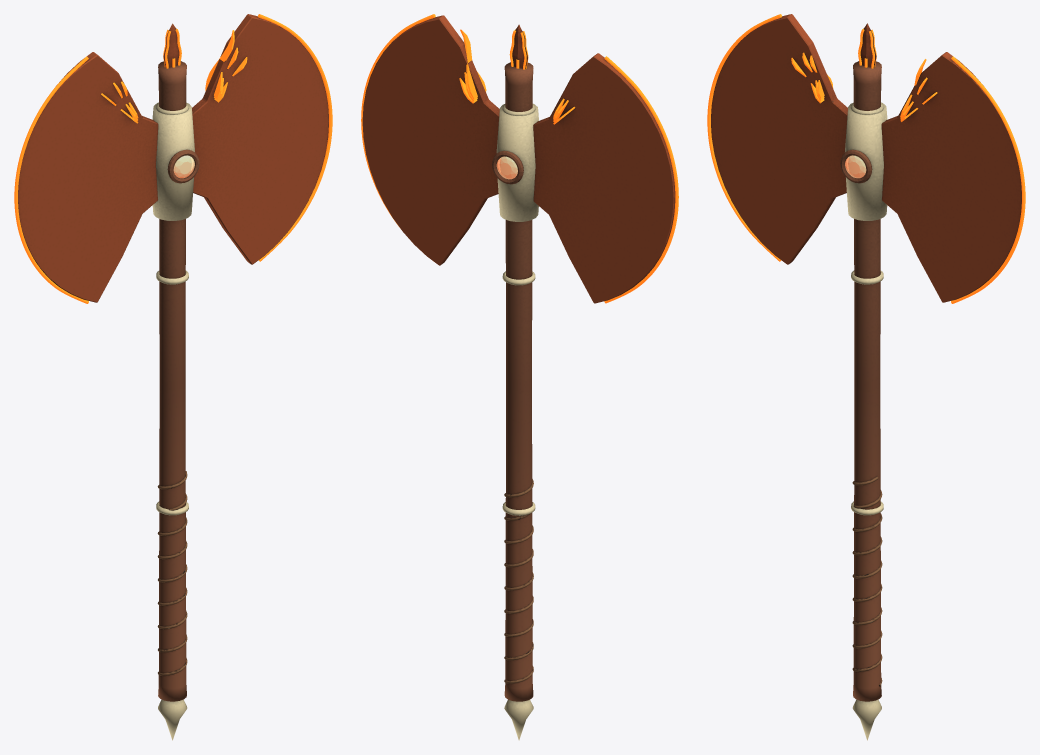
The model's file is arma_lend_machado_gigante_fogo.glb.
3 views of the same model, side by side, from view 1: azimuth 30°, elevation 25°; view 2: azimuth 150°, elevation 25°; view 3: azimuth 330°, elevation 25° (orthographic).
Visible parts, largest first — view 1: arma_lend_machado_gigante_fogo, gume-1, gume1; view 2: arma_lend_machado_gigante_fogo, gume-1, gume1; view 3: arma_lend_machado_gigante_fogo, gume1, gume-1.
Part boxes in pixels (x1=…): arma_lend_machado_gigante_fogo: x1=18, y1=14, x2=328, y2=740; gume-1: x1=14, y1=56, x2=88, y2=303; gume1: x1=258, y1=14, x2=332, y2=261; arma_lend_machado_gigante_fogo: x1=362, y1=15, x2=675, y2=740; gume-1: x1=604, y1=56, x2=678, y2=303; gume1: x1=361, y1=14, x2=435, y2=226; arma_lend_machado_gigante_fogo: x1=711, y1=14, x2=1021, y2=740; gume1: x1=951, y1=56, x2=1025, y2=303; gume-1: x1=707, y1=14, x2=781, y2=261.
Size of the model in its own units: 0.7923 by 1.71 by 0.1142.
Materials: 17 (1 with a texture image).
